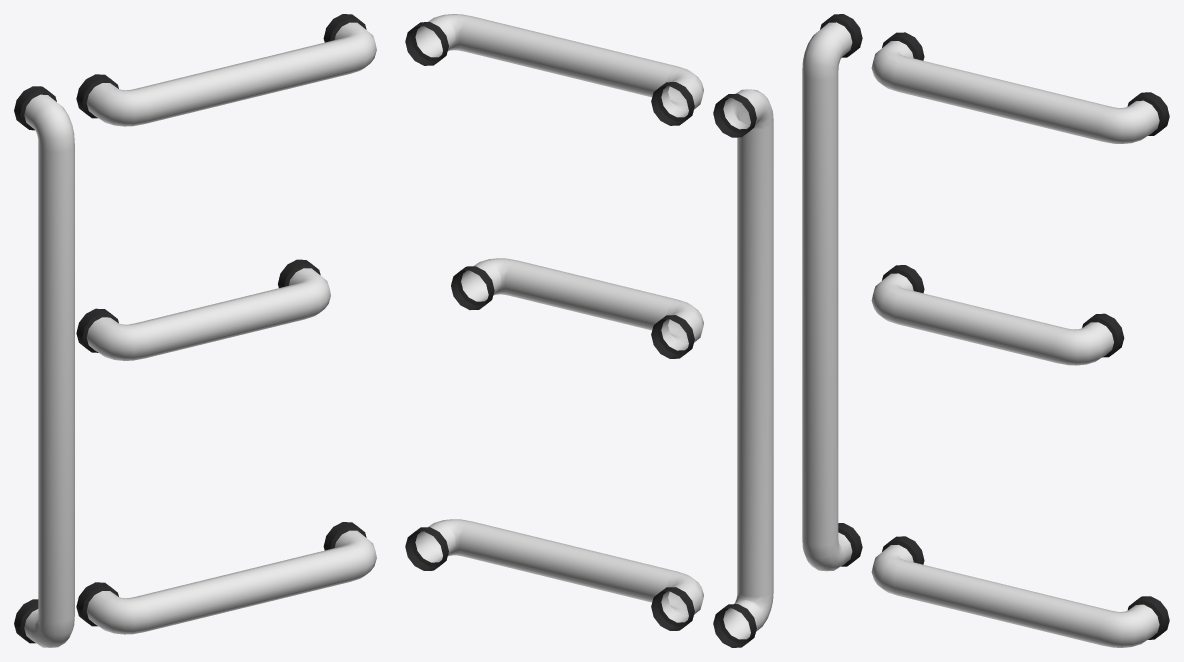
The model's file is LettersNeon01_E.FBX.
3 views of the same model, side by side, from view 1: azimuth 30°, elevation 25°; view 2: azimuth 150°, elevation 25°; view 3: azimuth 330°, elevation 25° (orthographic).
Parts seen in each view (by area): view 1: LettersNeon01_E; view 2: LettersNeon01_E; view 3: LettersNeon01_E.
Part boxes in pixels (bbox=[...]): LettersNeon01_E: bbox=[14, 14, 376, 647]; LettersNeon01_E: bbox=[405, 14, 773, 647]; LettersNeon01_E: bbox=[802, 14, 1169, 647].
Size of what is drawn, in the model's own units: 0.331 by 0.503 by 0.054.
